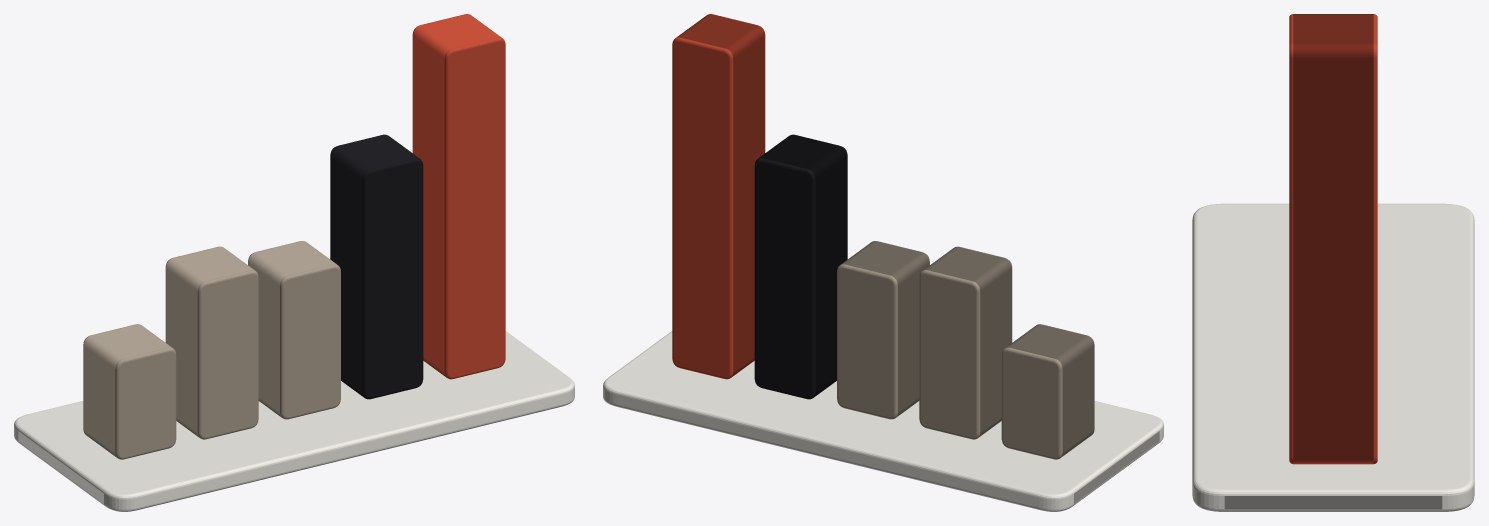
File: bar-chart.glb
3 views of the same model, side by side, from view 1: azimuth 30°, elevation 25°; view 2: azimuth 150°, elevation 25°; view 3: azimuth 270°, elevation 25° (orthographic). The views are drawn at different scales.
Visible parts, largest first — view 1: base, bar-4, bar-3, bar-1, bar-2, bar-0; view 2: base, bar-4, bar-3, bar-1, bar-2, bar-0; view 3: base, bar-4.
Part boxes in pixels (box(x1,y1,x2,y2)): base: box(14, 331, 574, 511); bar-4: box(412, 14, 505, 379); bar-3: box(330, 134, 423, 399); bar-1: box(165, 246, 258, 439); bar-2: box(248, 241, 340, 419); bar-0: box(83, 324, 176, 459); base: box(603, 331, 1163, 511); bar-4: box(672, 14, 765, 379); bar-3: box(754, 134, 847, 399); bar-1: box(919, 246, 1012, 439); bar-2: box(837, 241, 929, 419); bar-0: box(1001, 324, 1094, 459); base: box(1192, 203, 1474, 511); bar-4: box(1289, 14, 1377, 464).
Size of the model in its own units: 1.7 by 1.21 by 0.7.
